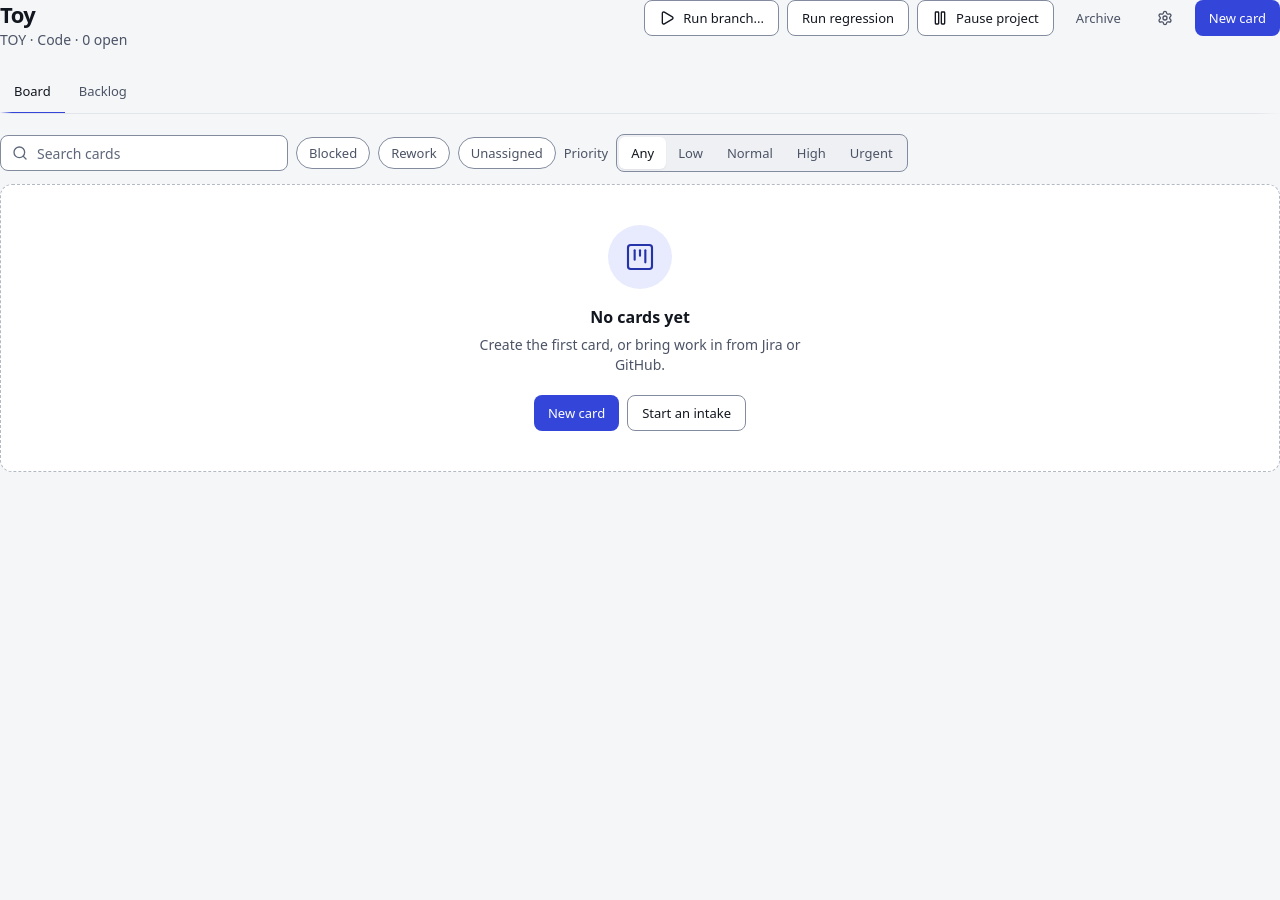
Scenario: pause project button › Cancel closes the dialog and pauses nothing
Click the button with test id "pause-project-open" at [985, 18], box [917,0,1054,36]
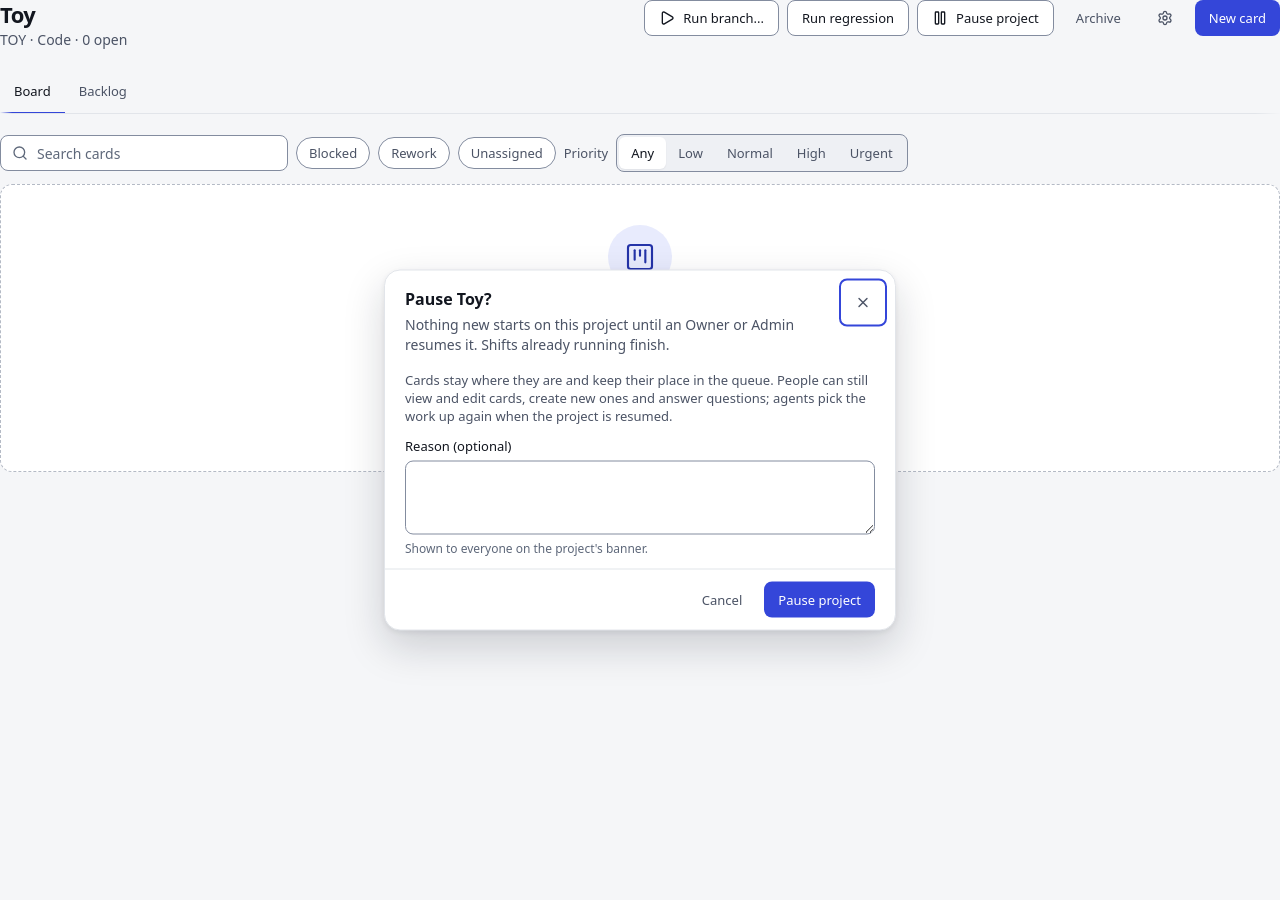
Click the button "Cancel" at [722, 600], box [688,582,756,618]
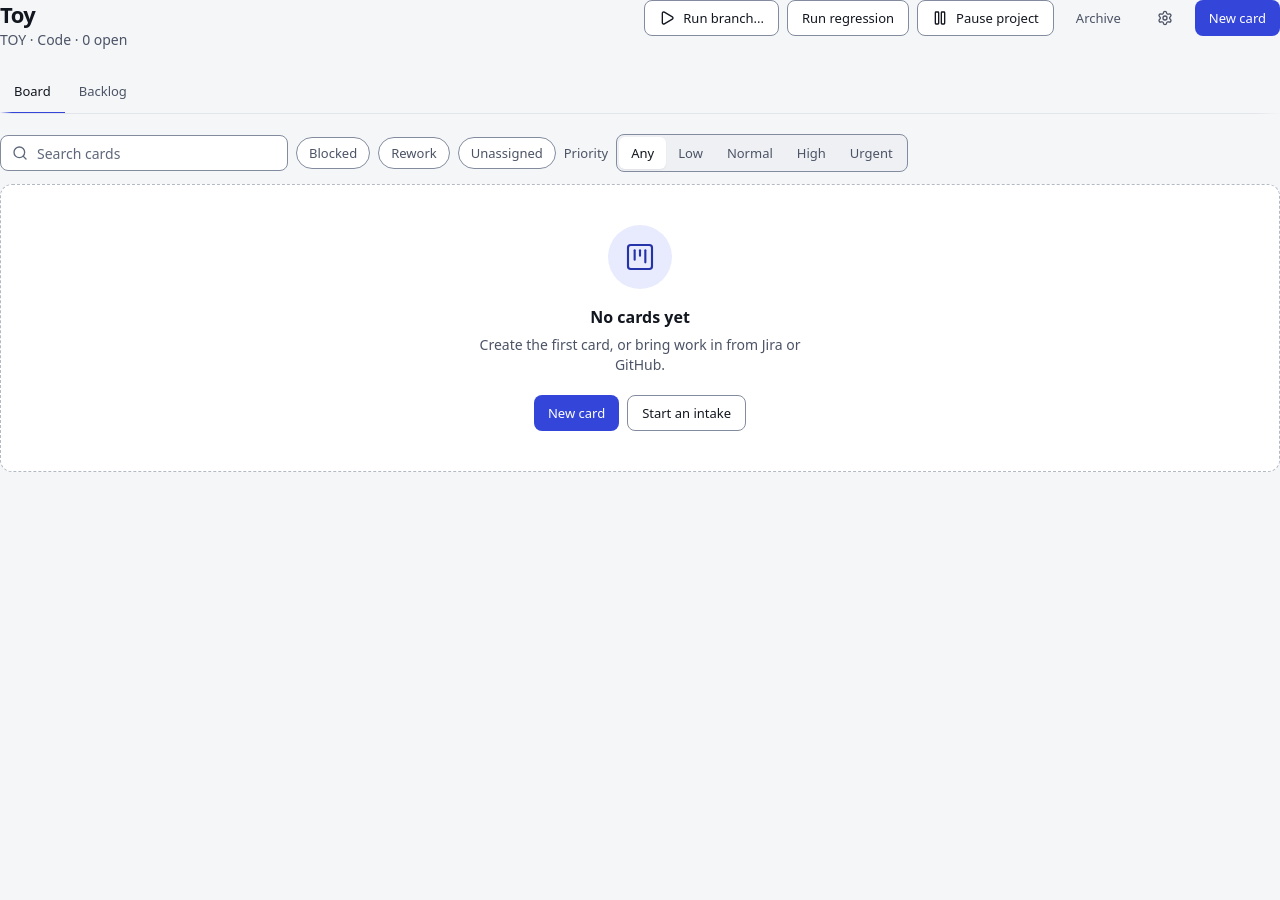
Now the dialog is gone
